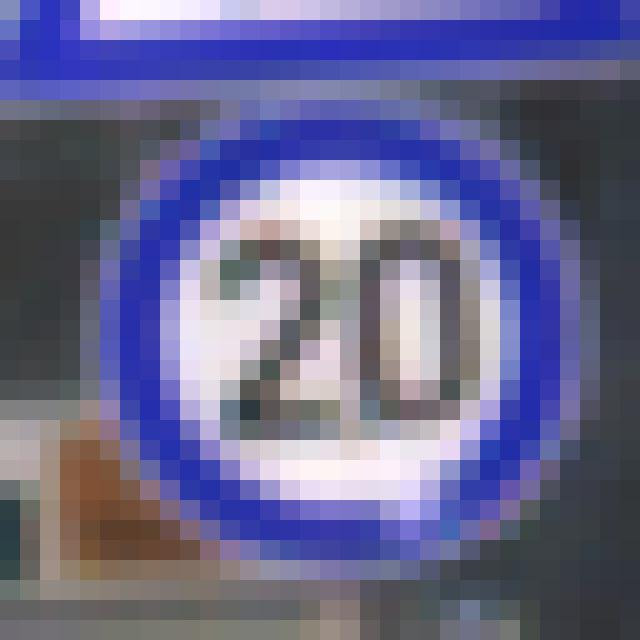SPEED LIMIT 20: (97, 95, 596, 571)
